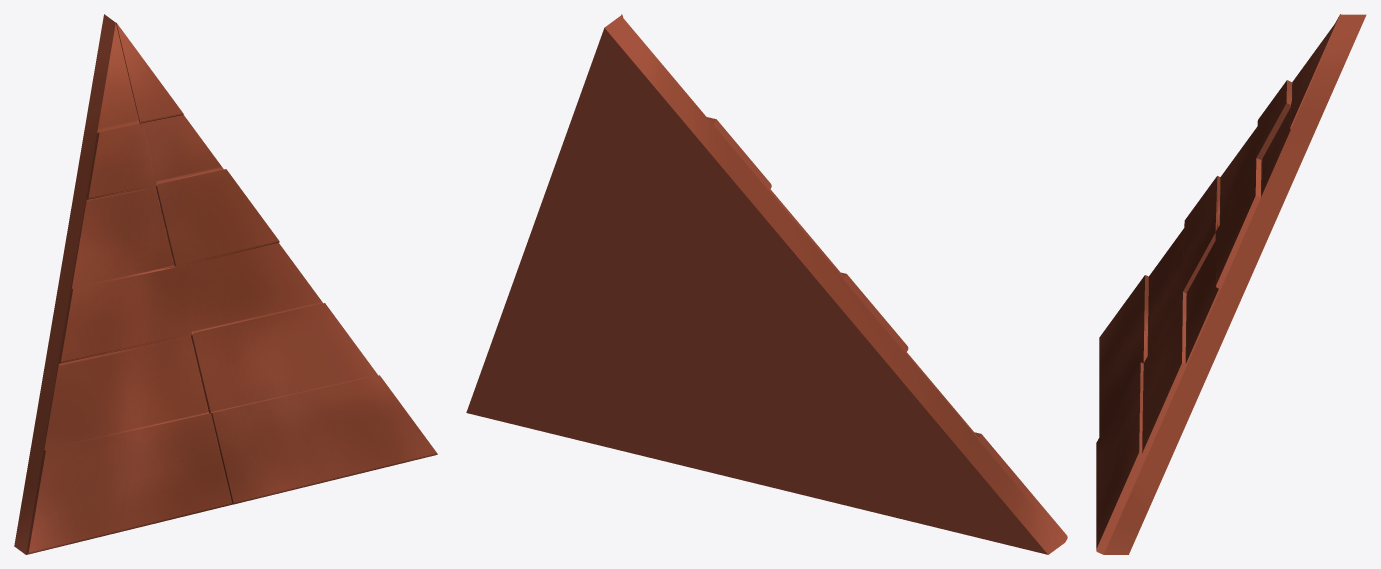
Rendered from Roof 4.fbx.
3 views of the same model, side by side, from view 1: azimuth 30°, elevation 25°; view 2: azimuth 150°, elevation 25°; view 3: azimuth 270°, elevation 25° (orthographic). The views are drawn at different scales.
Parts seen in each view (by area): view 1: Roof 4; view 2: Roof 4; view 3: Roof 4.
Part boxes in pixels (x1=…): Roof 4: x1=14, y1=14, x2=437, y2=554; Roof 4: x1=466, y1=14, x2=1067, y2=554; Roof 4: x1=1096, y1=14, x2=1366, y2=554.
Bounding box in the file's own units: 275 × 259 × 147.
1 material, 1 textured.
